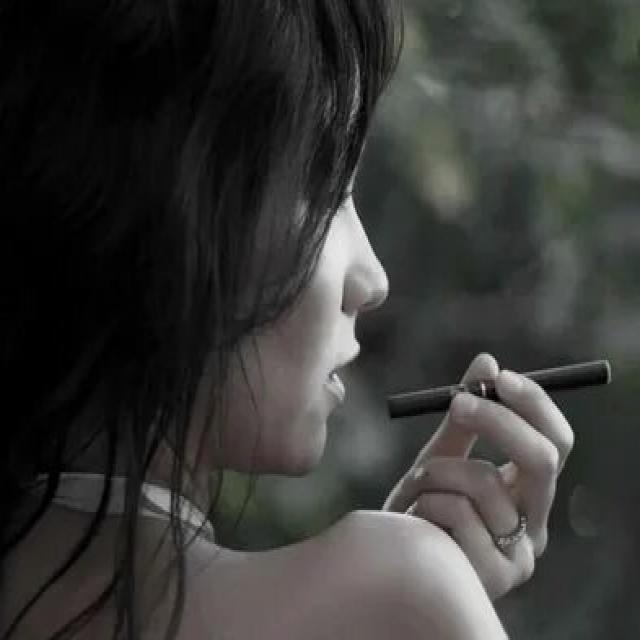cigarette: (383, 354, 622, 426)
